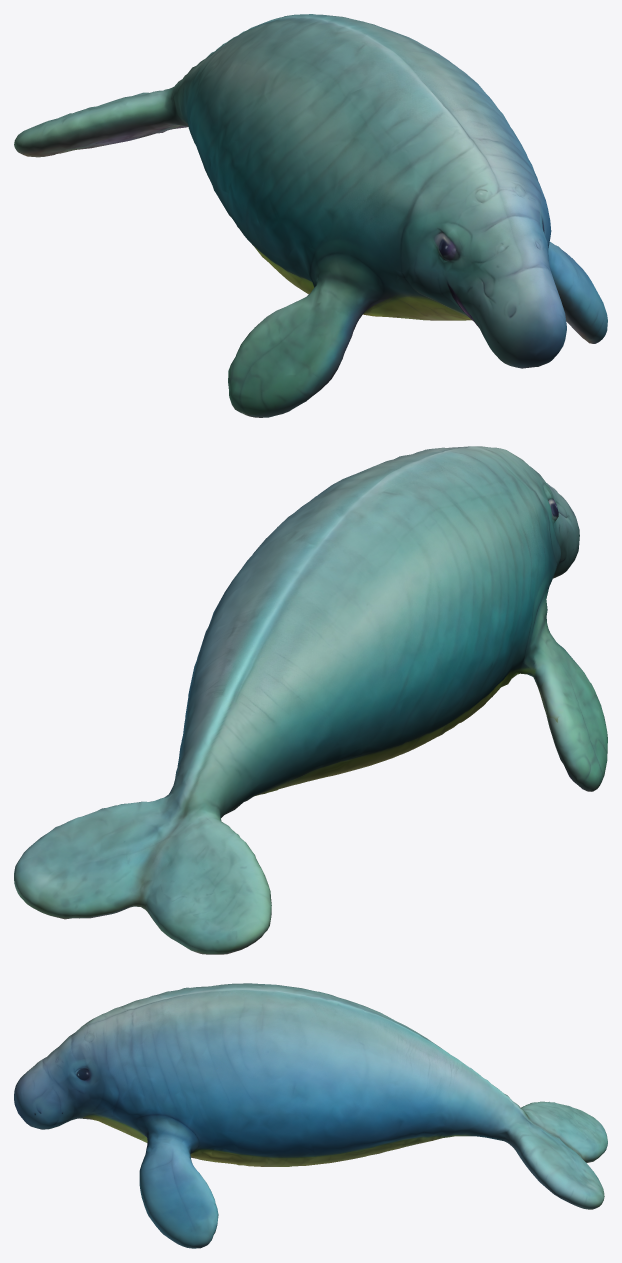
File: 2manatee1-affe-4f87-9940-9d0c8f5c5d84.glb
The picture shows the model from 3 angles, top to bottom: view 1: azimuth 30°, elevation 25°; view 2: azimuth 150°, elevation 25°; view 3: azimuth 270°, elevation 25°; orthographic projection. The views are drawn at different scales.
Bounding box in the file's own units: 0.5771 × 0.4545 × 1.2.
1 material, 1 textured.
